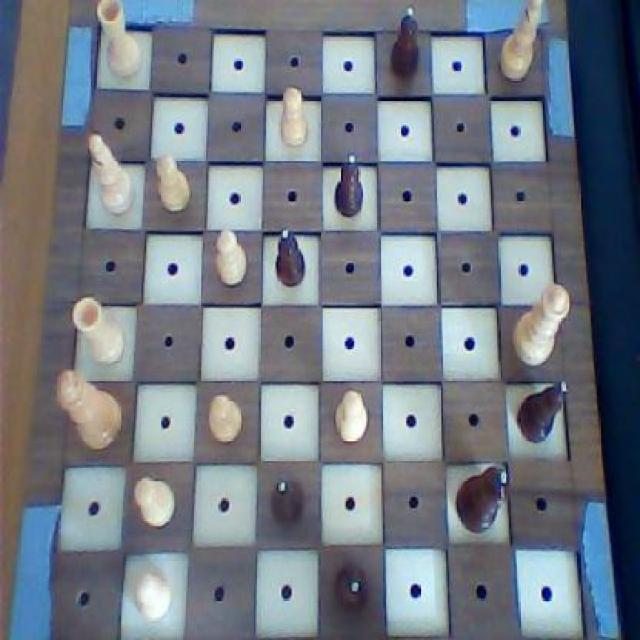bishop: (517, 374, 572, 445)
black-bishop: (449, 464, 510, 540)
black-knight: (386, 3, 425, 82), (332, 147, 367, 220), (270, 222, 308, 286), (331, 558, 372, 616), (268, 472, 308, 528)
black-rook: (86, 128, 136, 220), (496, 0, 544, 88)
white-bishop: (51, 364, 125, 452)
white-knight: (131, 471, 181, 531), (331, 384, 374, 448), (274, 82, 312, 154), (129, 566, 173, 626), (202, 388, 246, 447), (151, 152, 192, 215), (211, 226, 248, 290)
white-pawn: (509, 278, 573, 367)
white-queen: (69, 294, 127, 368), (94, 0, 143, 83)
